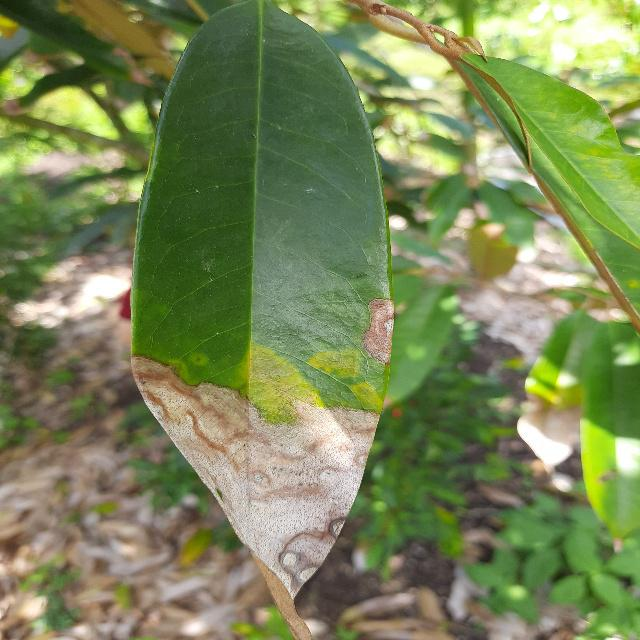Leaf Blight: (123, 0, 403, 639)
